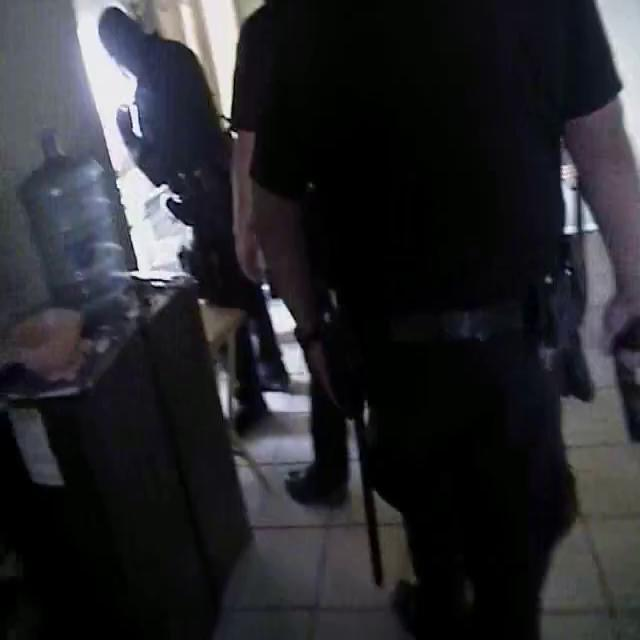gun: (586, 290, 640, 496)
